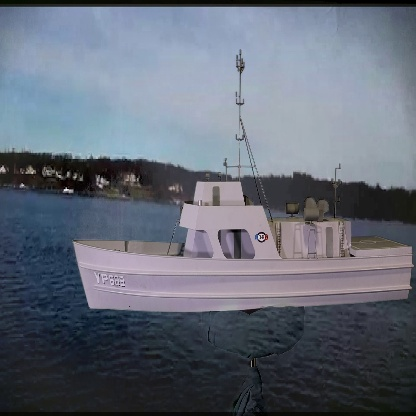YP689: (72, 50, 410, 313)
